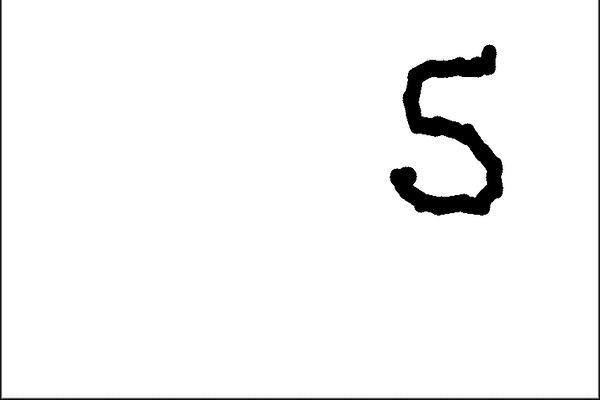S: (381, 39, 510, 224)
